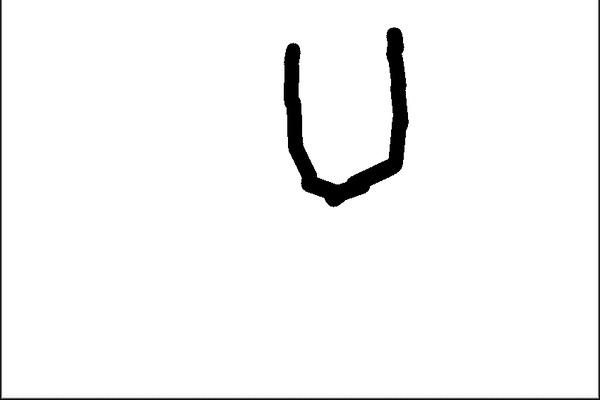U: (271, 22, 415, 210)
